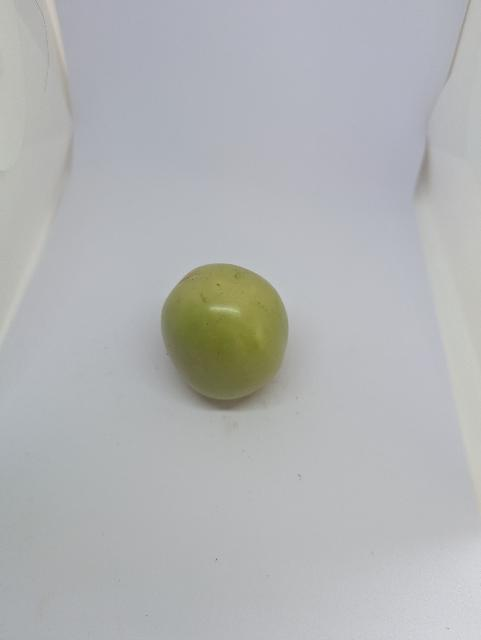green: (154, 252, 306, 413)
